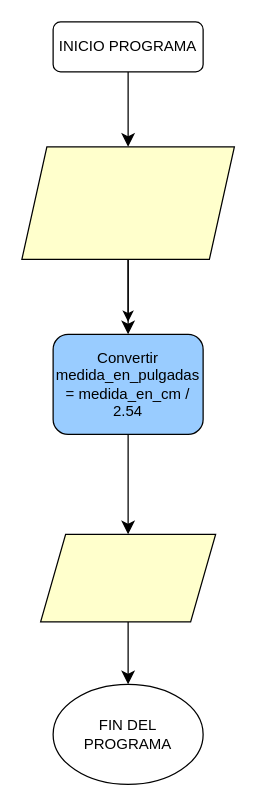
Some shapes in this 256 by 806 pixel diagram are drawn without their labels. Here are the shapes that lost their labels. From the top down, the centre of each, then its label:
point 127,202: " Por favor, ingrese las medidas de la pieza del mueble (en cm): "
point 127,577: Mostrar el resultado
